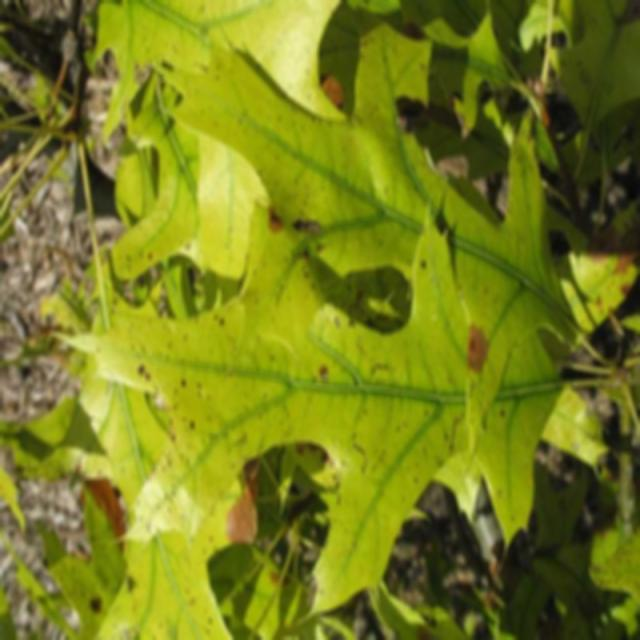Chlorosis: (36, 32, 601, 634)
